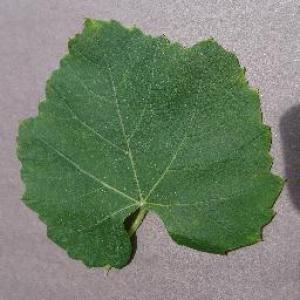Folha: (14, 16, 287, 270)
